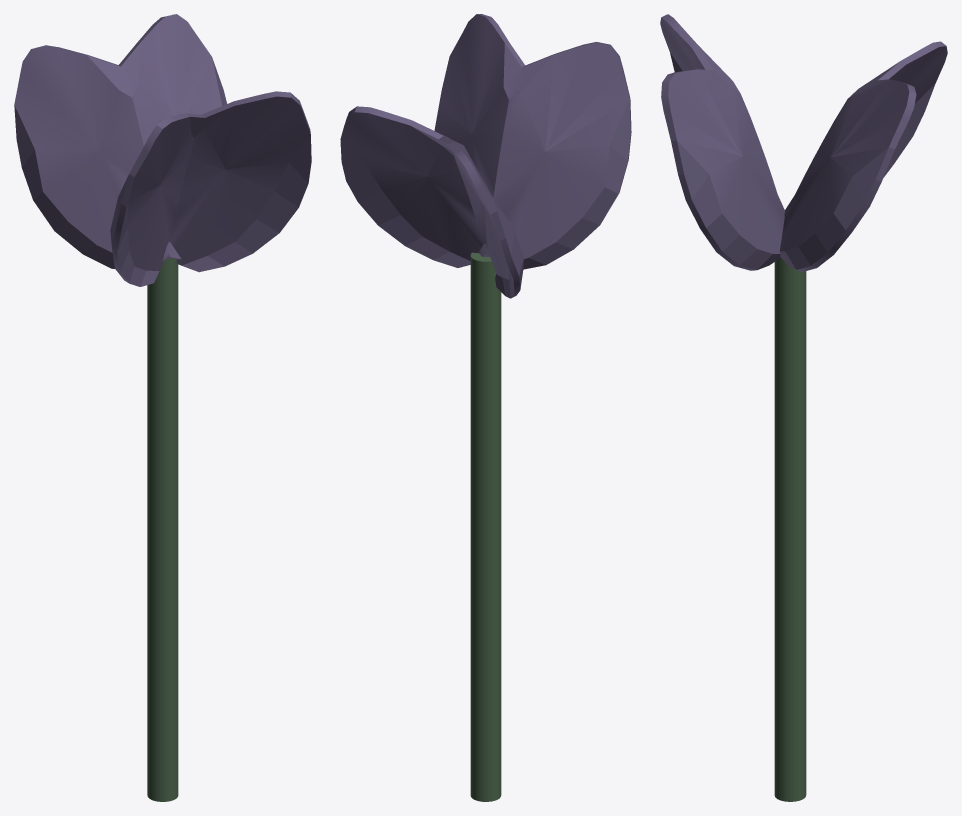
Rendered from sweet_pea.obj.
3 renders of one model, left to right at view 1: azimuth 30°, elevation 25°; view 2: azimuth 150°, elevation 25°; view 3: azimuth 270°, elevation 25°, orthographic. The views are drawn at different scales.
Visible parts, largest first — view 1: petal sweet_pea, sweet_pea stem; view 2: petal sweet_pea, sweet_pea stem; view 3: petal sweet_pea, sweet_pea stem.
Part boxes in pixels (x1,y1,x2,y2): petal sweet_pea: [14, 14, 311, 286]; sweet_pea stem: [147, 258, 178, 801]; petal sweet_pea: [340, 14, 631, 298]; sweet_pea stem: [470, 252, 501, 801]; petal sweet_pea: [660, 14, 947, 271]; sweet_pea stem: [774, 258, 806, 801].
Bounding box in the file's own units: 0.7613 × 2.68 × 0.9321.
